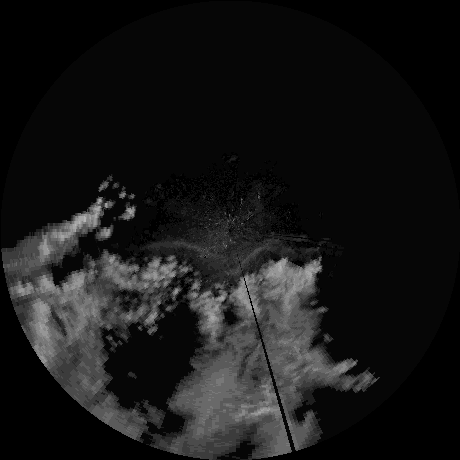frontgust: (230, 238, 320, 272), (140, 239, 226, 260)
